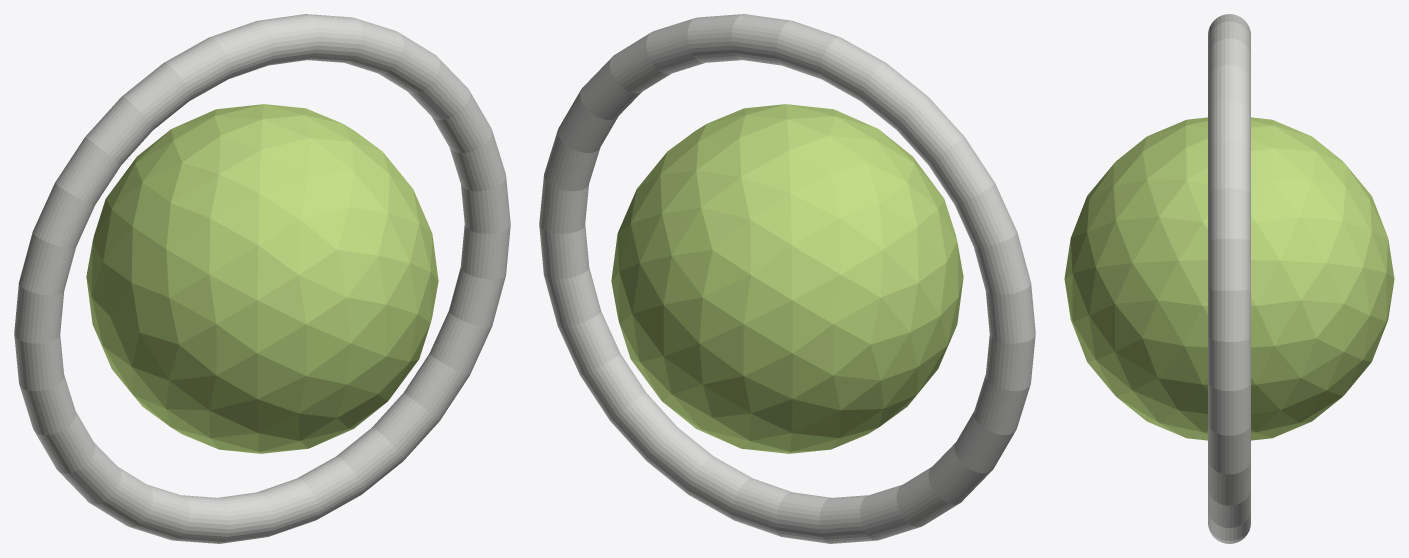
The model's file is signal-01.glb.
The picture shows the model from 3 angles, left to right: view 1: azimuth 30°, elevation 25°; view 2: azimuth 150°, elevation 25°; view 3: azimuth 270°, elevation 25°; orthographic projection. The views are drawn at different scales.
Visible parts, largest first — view 1: world; view 2: world; view 3: world.
Boxes of the visible parts, left/top/right/bottom form: world: left=14, top=14, right=510, bottom=543; world: left=539, top=14, right=1035, bottom=543; world: left=1064, top=14, right=1394, bottom=543.
Size of the model in its own units: 1.35 by 1.35 by 0.84.
